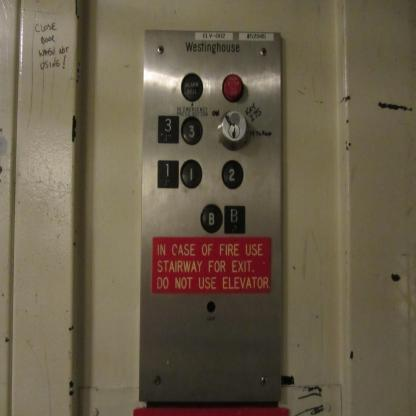1: (179, 157, 204, 190), (156, 158, 180, 191)
2: (220, 158, 244, 191)
3: (156, 113, 181, 145), (180, 114, 204, 147)
B: (222, 202, 247, 236), (199, 202, 224, 235)
keyhole: (215, 108, 251, 152)
text: (180, 71, 204, 103), (221, 72, 245, 104)
